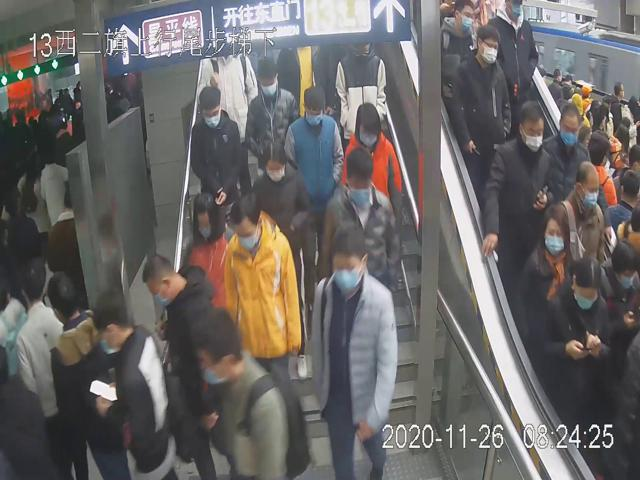person: (311, 220, 399, 480), (227, 189, 304, 407), (480, 101, 553, 290), (320, 147, 402, 305), (514, 198, 576, 356), (451, 23, 511, 178), (282, 80, 345, 216), (340, 100, 403, 222), (250, 137, 311, 262), (187, 88, 243, 221), (240, 54, 296, 174), (181, 192, 235, 305)
